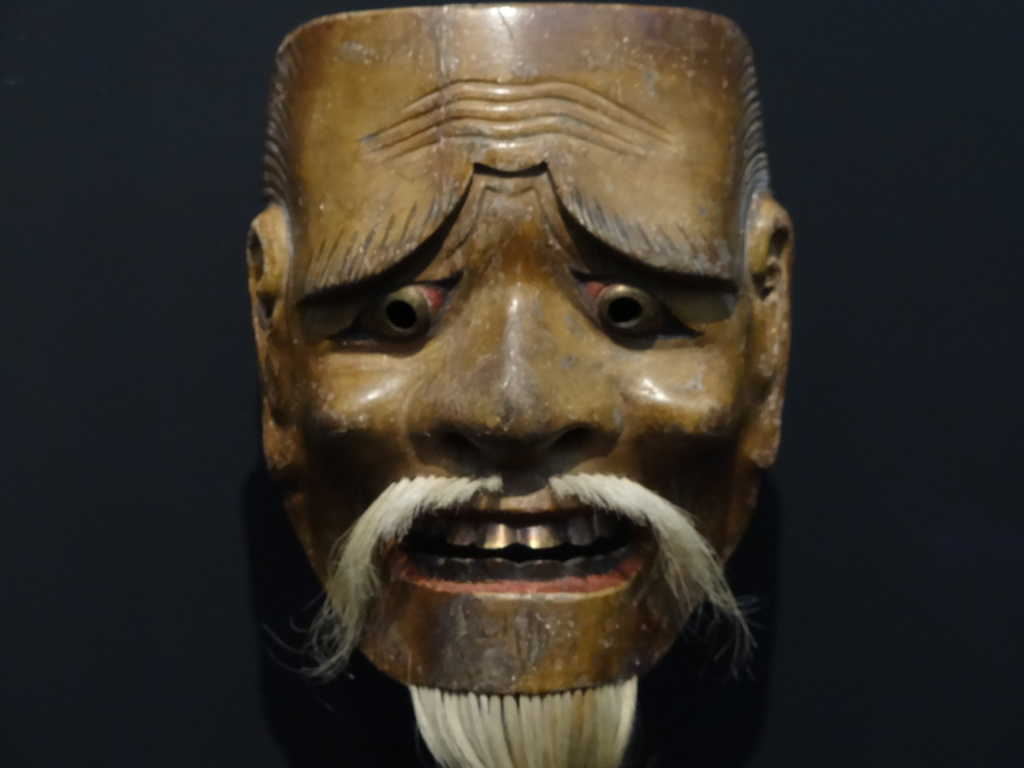Person: (240, 4, 790, 768)
